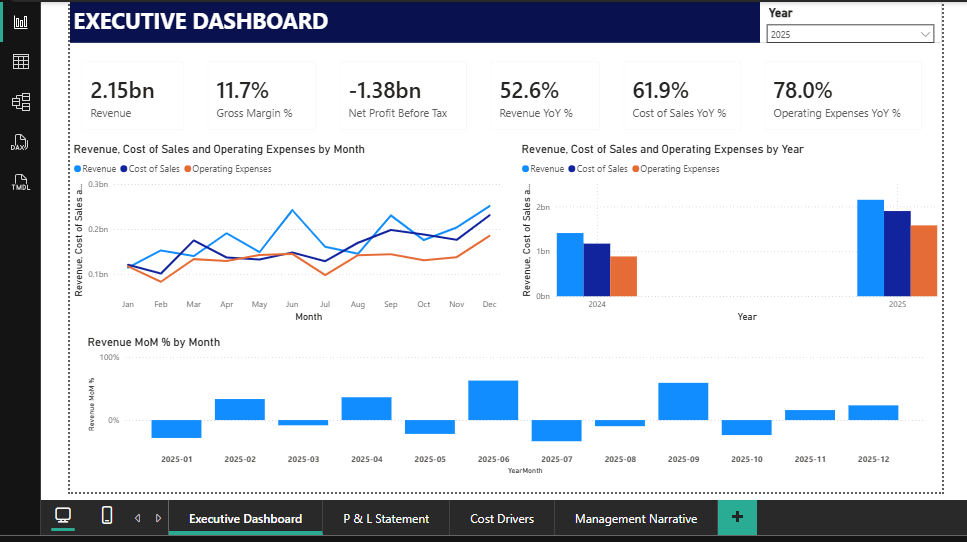

Layout of this report page (visuals, bound fields, positions):
{"tool":"powerbi","page":{"name":"Executive Dashboard","canvas":[1280,720],"ordinal":0},"visuals":[{"type":"cardVisual","fields":{"Data":["FactFinancialTransactions.Revenue"]},"box":[0,70.2,185.2,135.9],"z":0},{"type":"cardVisual","fields":{"Data":["FactFinancialTransactions.Net Profit Before Tax"]},"box":[379.4,70.2,221.1,135.9],"z":1000},{"type":"cardVisual","fields":{"Data":["FactFinancialTransactions.Gross Margin %"]},"box":[185.2,70.2,194.2,135.9],"z":2000},{"type":"cardVisual","fields":{"Data":["FactFinancialTransactions.Operating Expenses YoY %"]},"box":[1003.7,70.2,265.9,135.9],"z":3000},{"type":"cardVisual","fields":{"Data":["FactFinancialTransactions.Revenue YoY %"]},"box":[600.4,70.2,195.7,135.9],"z":4000},{"type":"cardVisual","fields":{"Data":["FactFinancialTransactions.Cost of Sales YoY %"]},"box":[796.1,70.2,207.6,135.9],"z":5000},{"type":"lineChart","fields":{"Category":["DimDate.Month"],"Y":["FactFinancialTransactions.Revenue","FactFinancialTransactions.Cost of Sales","FactFinancialTransactions.Operating Expenses"]},"box":[0,205,640.7,270],"z":6000},{"type":"clusteredColumnChart","fields":{"Category":["DimDate.Year"],"Y":["FactFinancialTransactions.Revenue","FactFinancialTransactions.Cost of Sales","FactFinancialTransactions.Operating Expenses"]},"box":[658.7,205,621.3,270],"z":7000},{"type":"textbox","box":[0,0,1280,60],"z":8000},{"type":"slicer","fields":{"Values":["DimDate.Year"]},"box":[1014.1,0,265.9,59.7],"z":9000},{"type":"clusteredColumnChart","title":"Revenue MoM % by Month","fields":{"Category":["DimDate.YearMonth"],"Y":["FactFinancialTransactions.Revenue MoM %"]},"box":[20,490,1240,210],"z":10000}]}

Visuals, with their boxes on the page's 1280x720 design canvas (x1, y1, x2, y2). These are canvas units, not pixel positions in the 967x542 screenshot, which may show the page scaled, cropped or inside an application window:
cardVisual - FactFinancialTransactions.Revenue: x1=0 y1=70 x2=185 y2=206
cardVisual - FactFinancialTransactions.Net Profit Before Tax: x1=379 y1=70 x2=600 y2=206
cardVisual - FactFinancialTransactions.Gross Margin %: x1=185 y1=70 x2=379 y2=206
cardVisual - FactFinancialTransactions.Operating Expenses YoY %: x1=1004 y1=70 x2=1270 y2=206
cardVisual - FactFinancialTransactions.Revenue YoY %: x1=600 y1=70 x2=796 y2=206
cardVisual - FactFinancialTransactions.Cost of Sales YoY %: x1=796 y1=70 x2=1004 y2=206
lineChart - DimDate.Month x FactFinancialTransactions.Revenue: x1=0 y1=205 x2=641 y2=475
clusteredColumnChart - DimDate.Year x FactFinancialTransactions.Revenue: x1=659 y1=205 x2=1280 y2=475
textbox: x1=0 y1=0 x2=1280 y2=60
slicer - DimDate.Year: x1=1014 y1=0 x2=1280 y2=60
"Revenue MoM % by Month" clusteredColumnChart: x1=20 y1=490 x2=1260 y2=700
